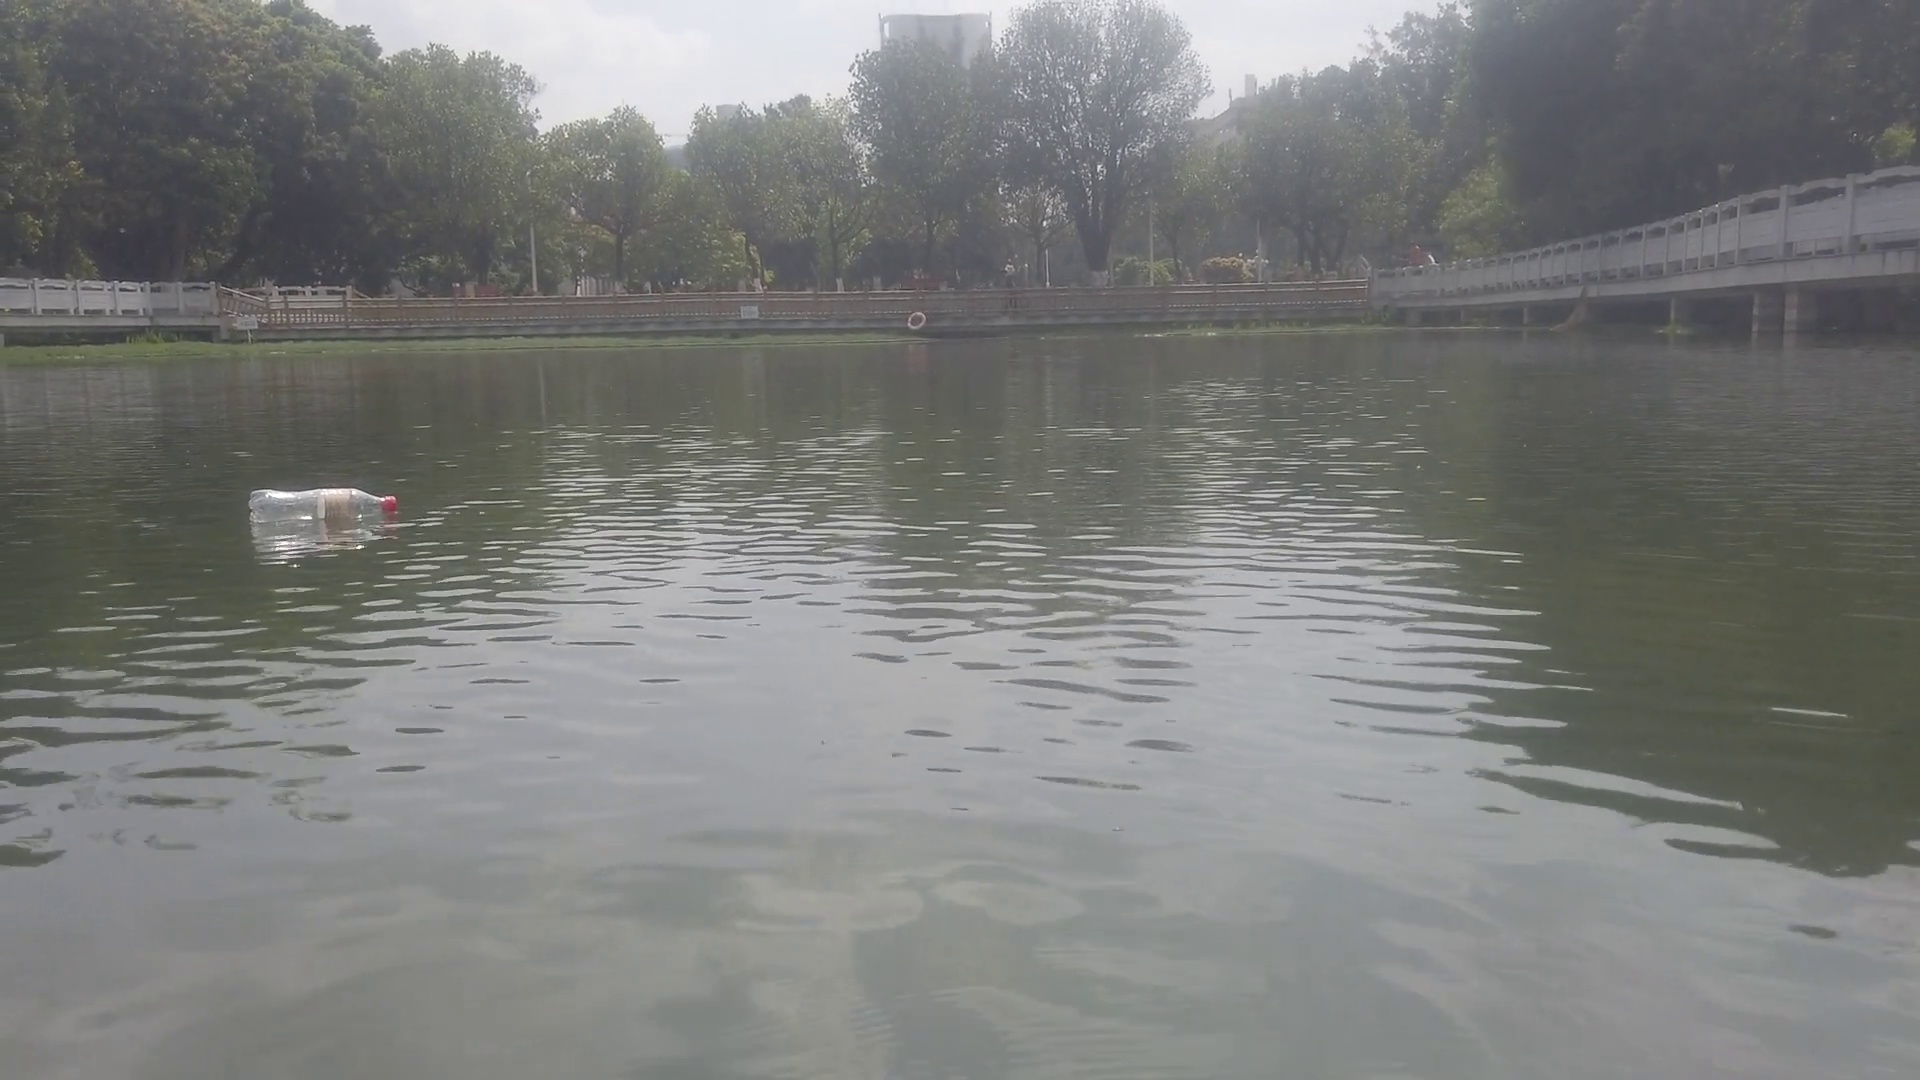bottle: (244, 483, 400, 524)
